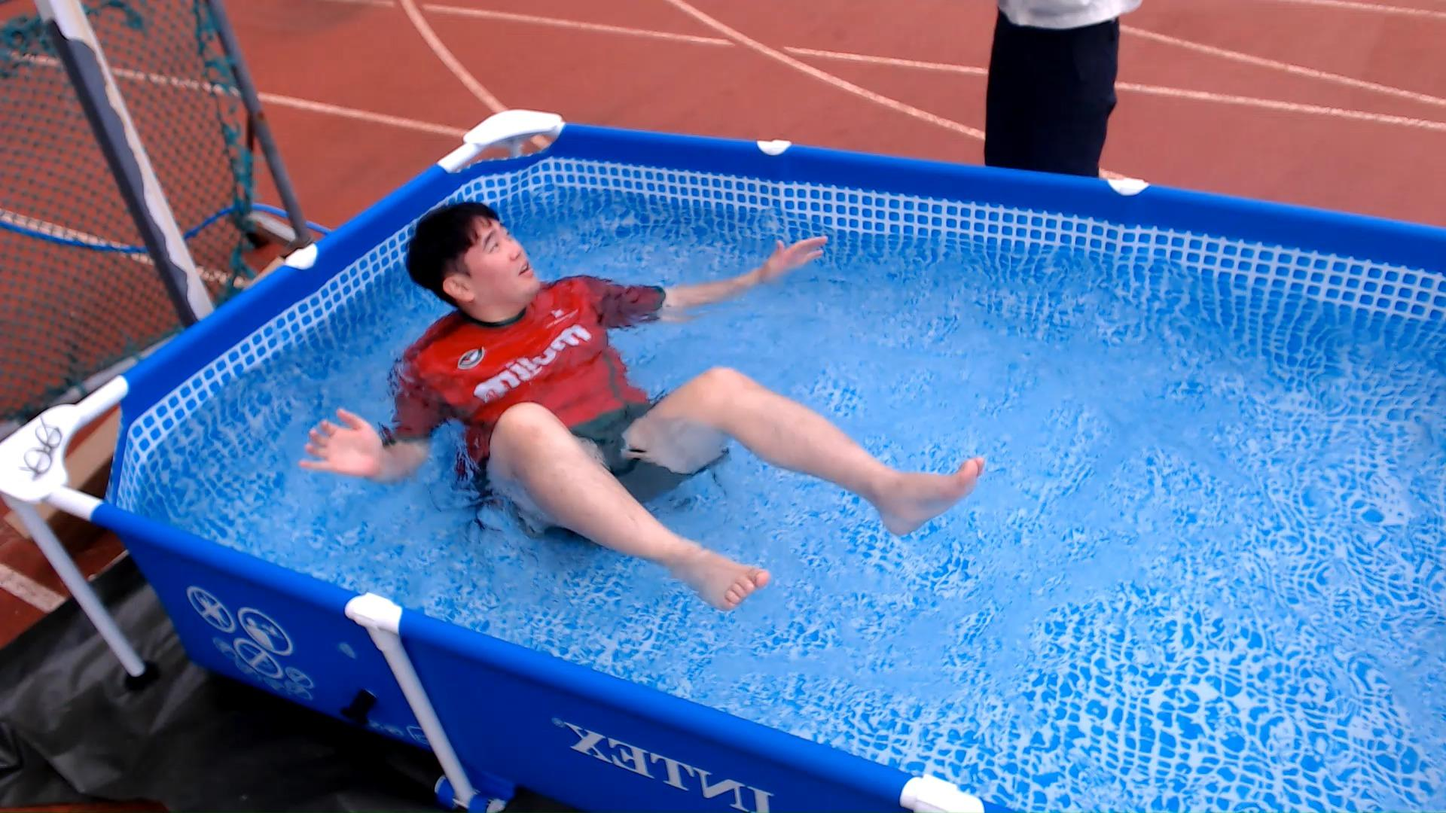Drowning: (271, 158, 1003, 642)
